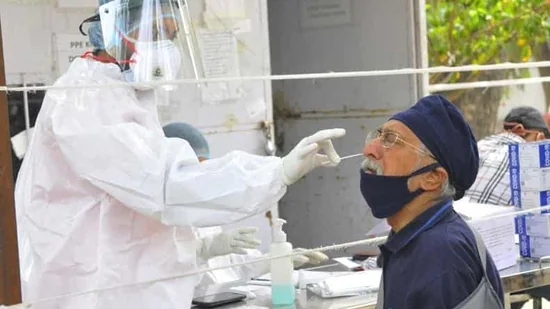Coverall: (10, 51, 286, 309)
Face_Shield: (84, 1, 217, 109)
Gloves: (279, 124, 350, 197), (191, 225, 264, 262)
mask_weared_incorrect: (355, 124, 421, 222)
with_mask: (122, 14, 182, 92)
